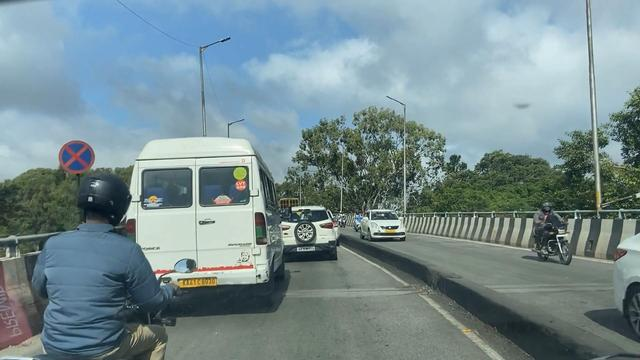HMV: (137, 142, 273, 302)
LMV: (283, 210, 337, 253)
SpeedBump: (294, 283, 394, 299)
